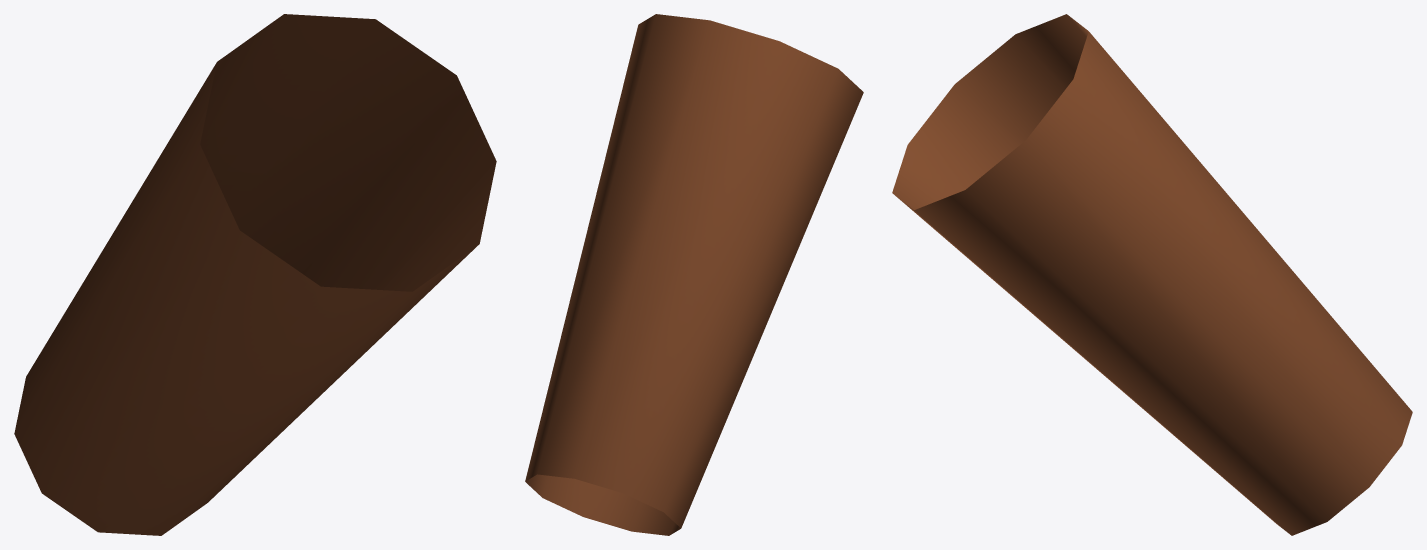
Rendered from Risu_Limb1L.fbx.
3 renders of one model, left to right at view 1: azimuth 30°, elevation 25°; view 2: azimuth 150°, elevation 25°; view 3: azimuth 270°, elevation 25°, orthographic. The views are drawn at different scales.
Visible parts, largest first — view 1: Risu_Limb1L; view 2: Risu_Limb1L; view 3: Risu_Limb1L.
Boxes of the visible parts, <box> form: Risu_Limb1L: <box>14,14,496,535</box>; Risu_Limb1L: <box>525,14,863,535</box>; Risu_Limb1L: <box>892,14,1412,535</box>.
Size of the model in its own units: 0.4992 by 1.08 by 1.03.
